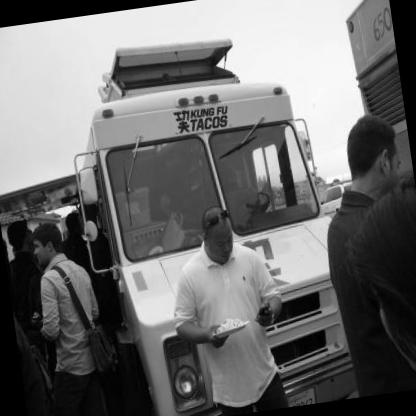bus: (42, 28, 396, 416)
